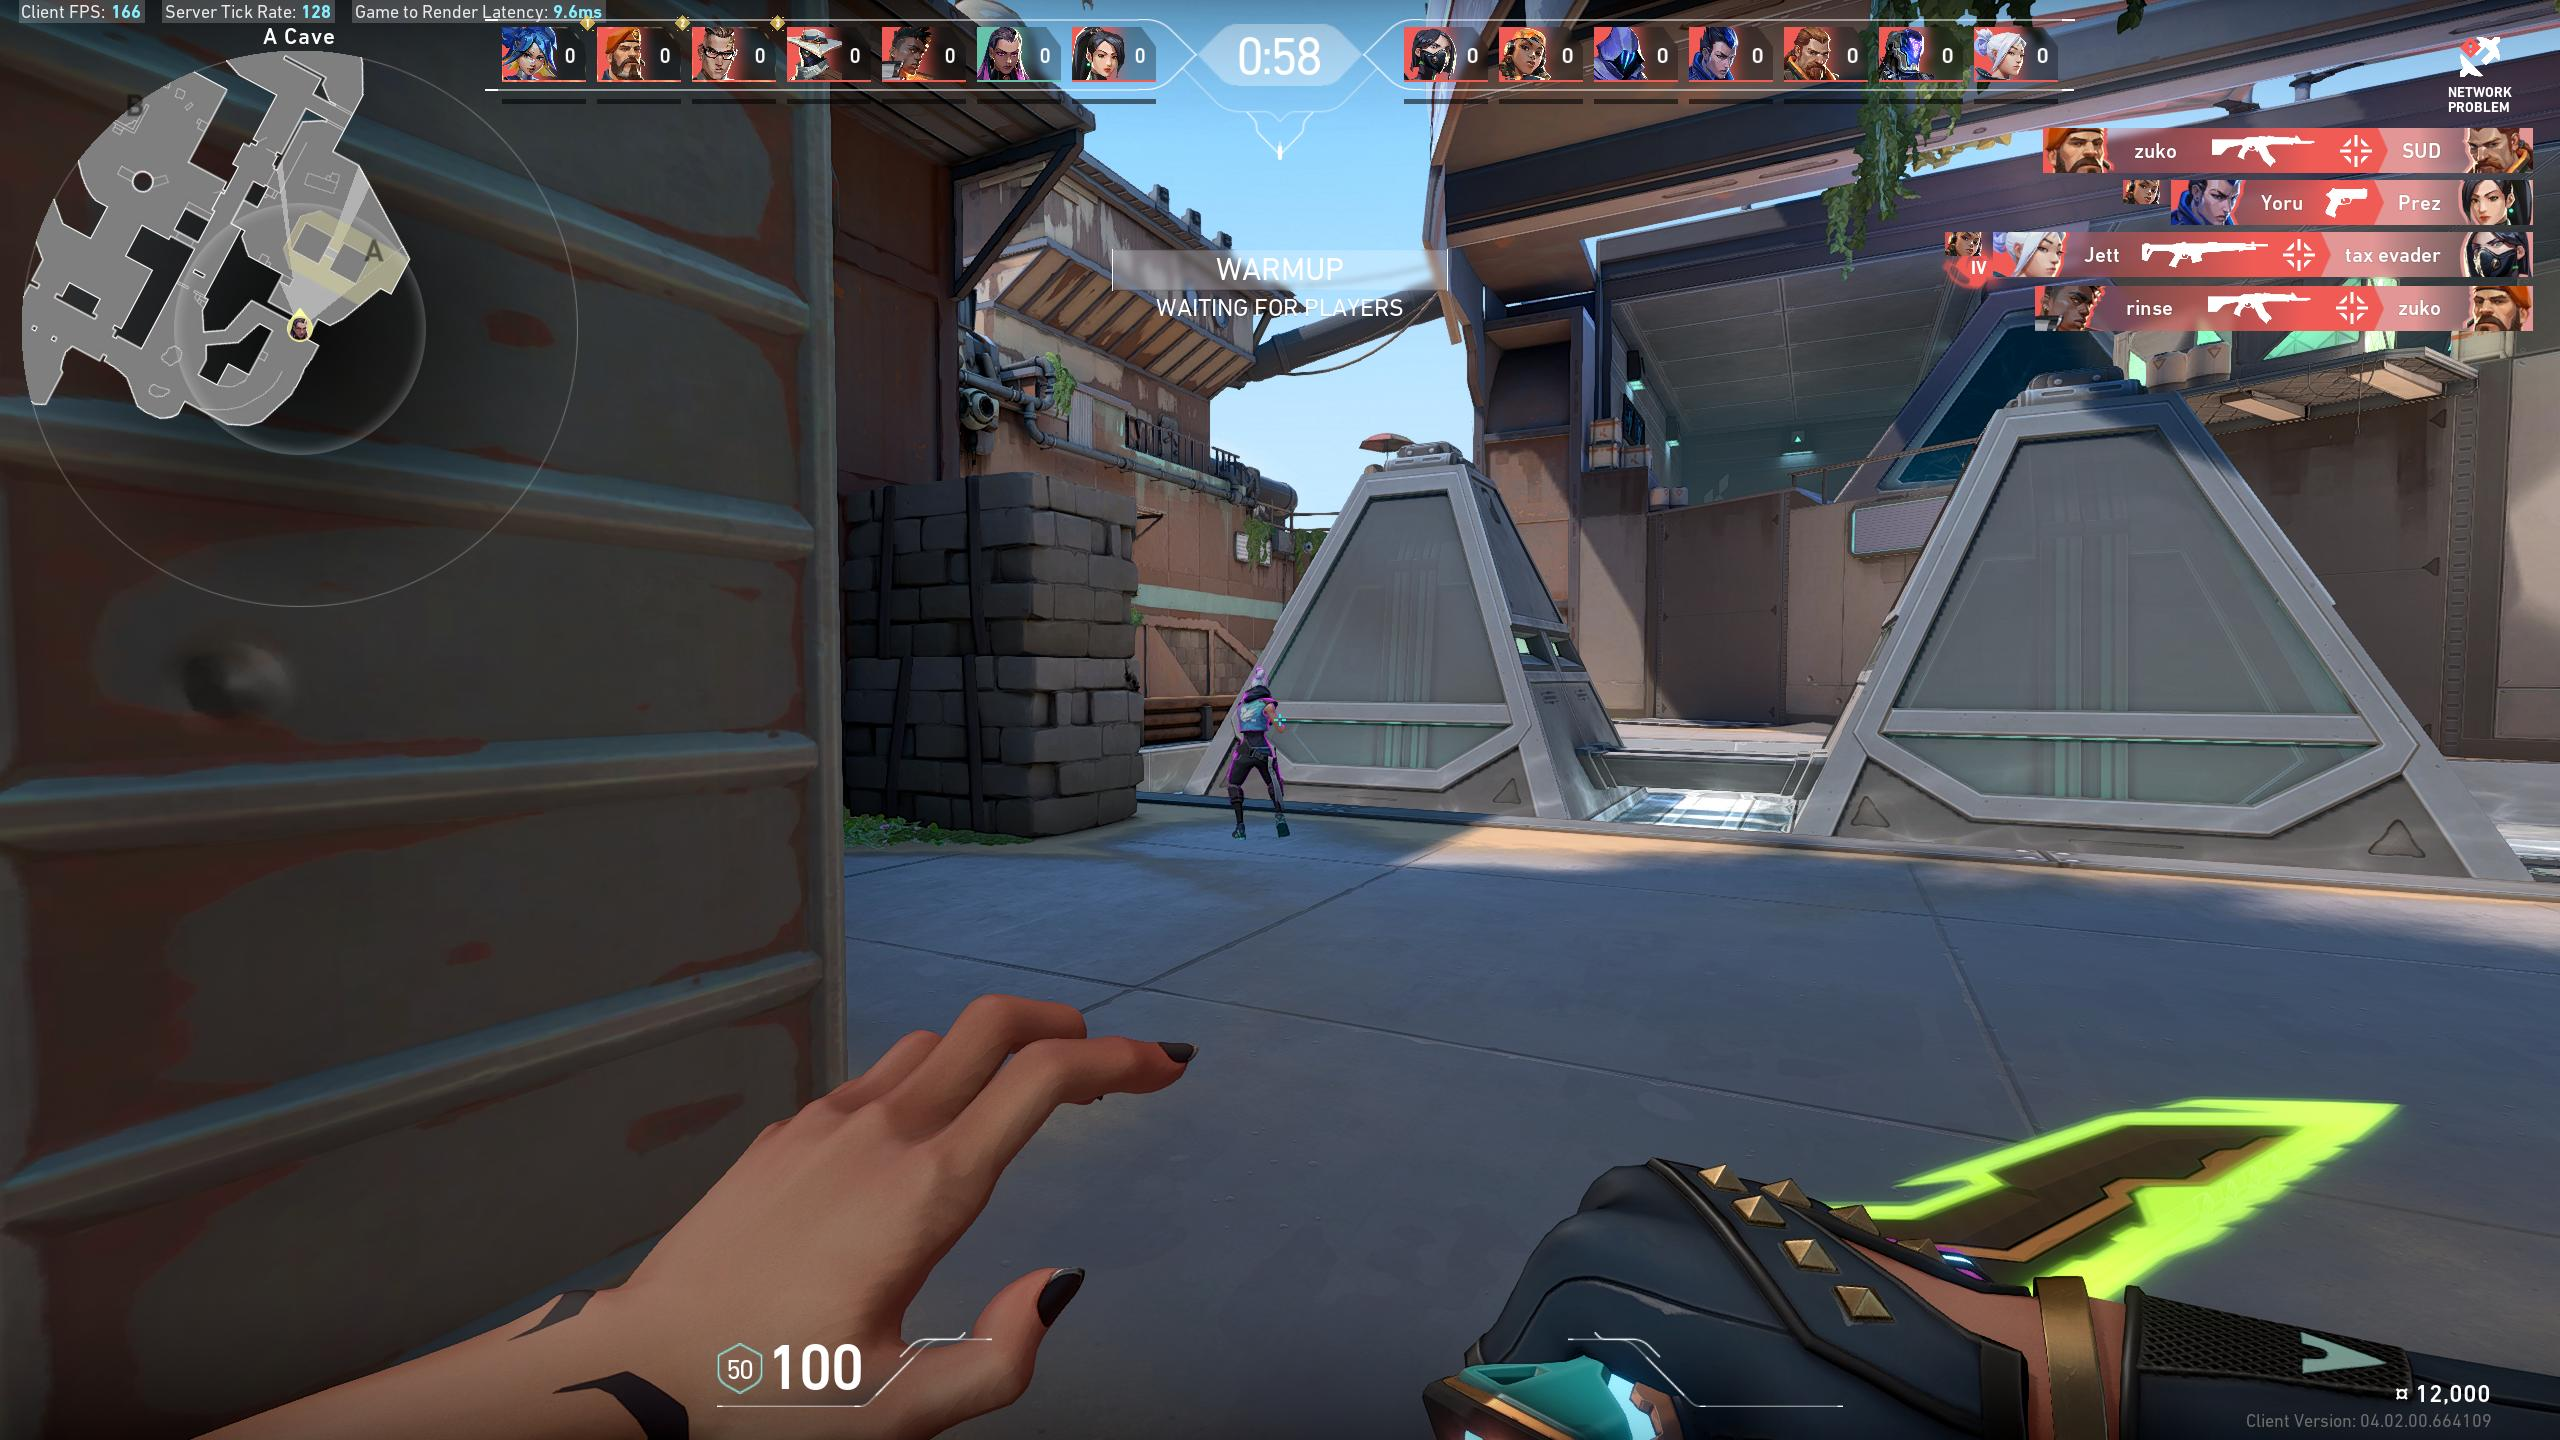enemyBody: (1243, 696, 1269, 731)
enemyHead: (1252, 677, 1264, 689)
